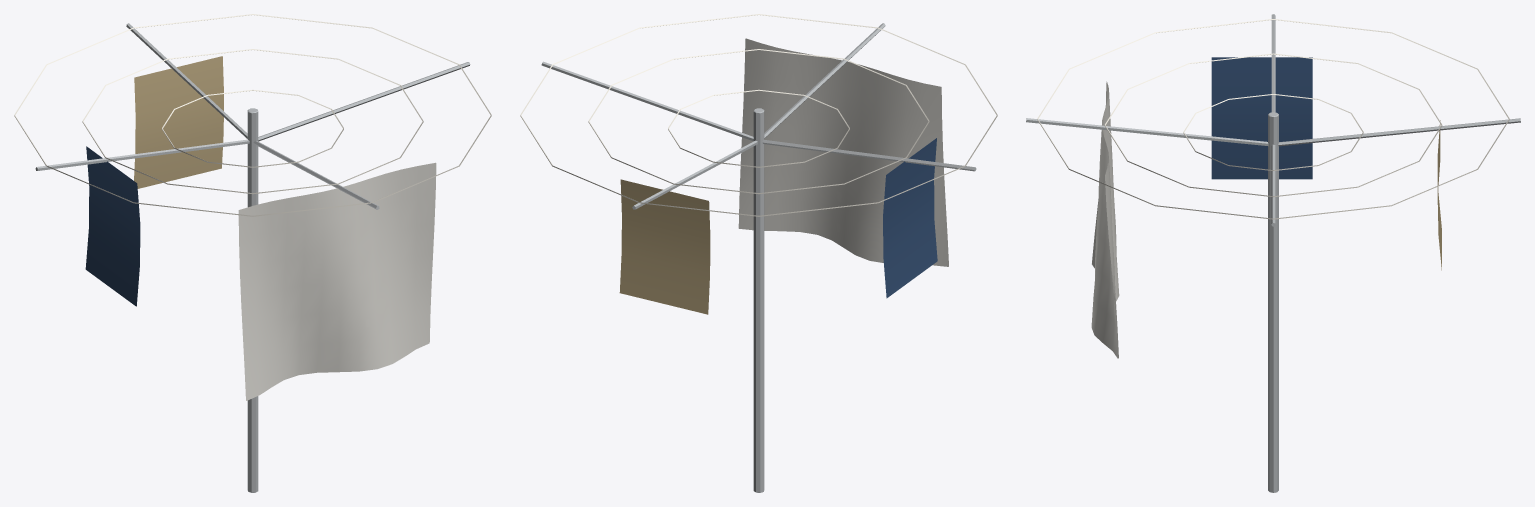
File: mae_whirligig.glb
The picture shows the model from 3 angles, left to right: view 1: azimuth 30°, elevation 25°; view 2: azimuth 150°, elevation 25°; view 3: azimuth 270°, elevation 25°; orthographic projection.
Visible parts, largest first — view 1: mae_whirligig; view 2: mae_whirligig; view 3: mae_whirligig.
Part boxes in pixels (x1,y1,x2,y2): mae_whirligig: (14,14,491,492); mae_whirligig: (520,14,997,492); mae_whirligig: (1026,14,1520,492).
Bounding box in the file's own units: 2.2 × 1.85 × 2.2.
